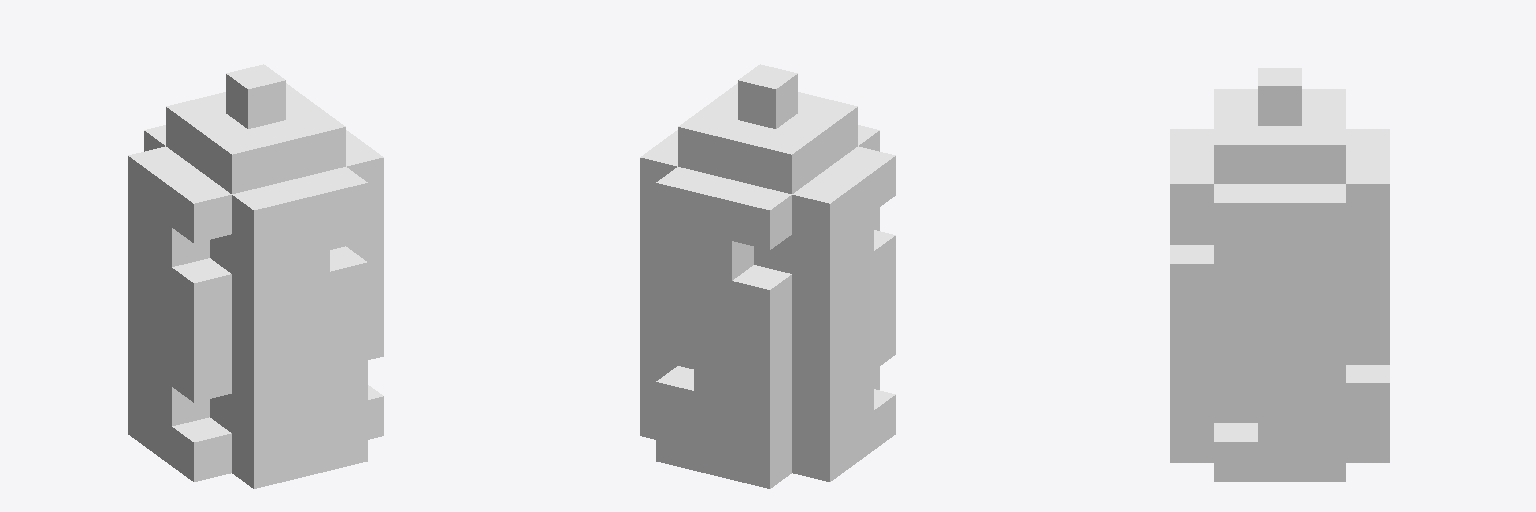
The model's file is applecore.obj.
3 renders of one model, left to right at view 1: azimuth 30°, elevation 25°; view 2: azimuth 150°, elevation 25°; view 3: azimuth 270°, elevation 25°, orthographic.
Visible parts, largest first — view 1: object 1; view 2: object 1; view 3: object 1.
Boxes of the visible parts, x1,y1,x2,y2 form: object 1: [128, 64, 383, 488]; object 1: [640, 64, 895, 488]; object 1: [1170, 68, 1389, 481].
Bounding box in the file's own units: 0.5 × 0.9 × 0.5.